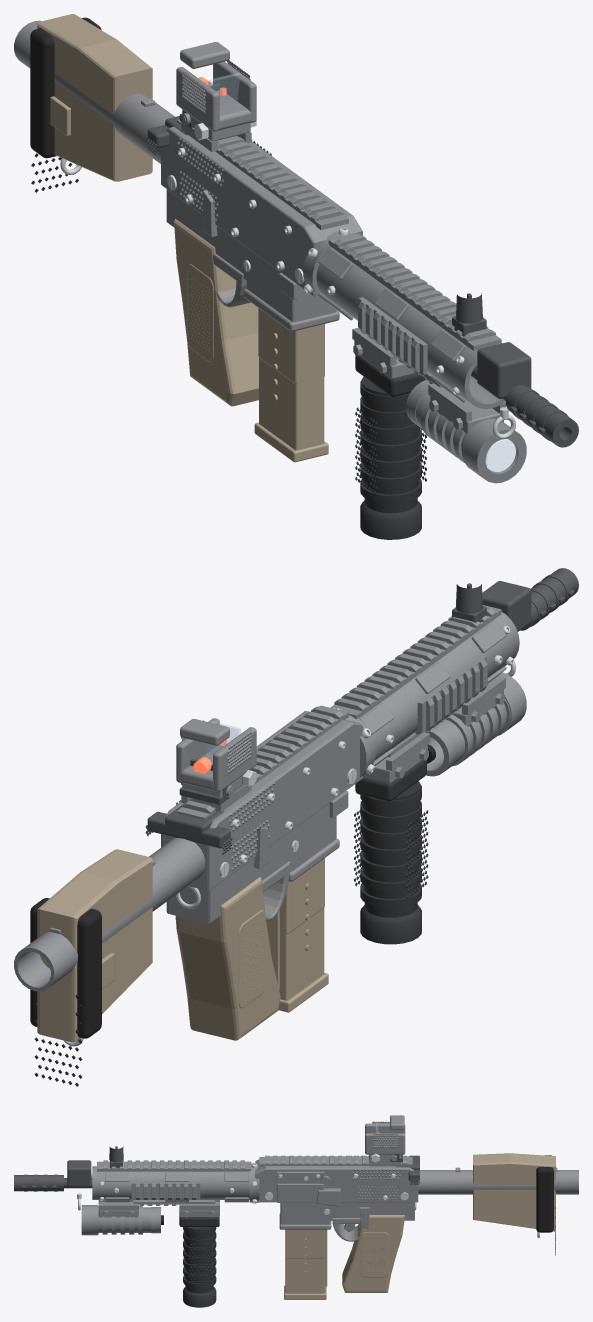
File: mpxc.glb
3 views of the same model, one above another, from view 1: azimuth 30°, elevation 25°; view 2: azimuth 150°, elevation 25°; view 3: azimuth 270°, elevation 25° (orthographic). The views are drawn at different scales.
Parts seen in each view (by area): view 1: carbine-smg-loadout, stock/polymerTan, magazine/polymerTan, stock/rubber, charge; view 2: carbine-smg-loadout, stock/polymerTan, magazine/polymerTan, stock/rubber, charge; view 3: carbine-smg-loadout, stock/polymerTan, magazine/polymerTan, stock/rubber, charge.
Boxes of the visible parts, x1=… form: carbine-smg-loadout: x1=14, y1=20, x2=578, y2=539; stock/polymerTan: x1=37, y1=14, x2=152, y2=181; magazine/polymerTan: x1=254, y1=308, x2=328, y2=462; stock/rubber: x1=30, y1=17, x2=101, y2=192; charge: x1=146, y1=116, x2=188, y2=154; carbine-smg-loadout: x1=14, y1=568, x2=578, y2=1040; stock/polymerTan: x1=37, y1=849, x2=152, y2=1042; magazine/polymerTan: x1=266, y1=858, x2=328, y2=1012; stock/rubber: x1=30, y1=898, x2=101, y2=1086; charge: x1=145, y1=805, x2=232, y2=854; carbine-smg-loadout: x1=14, y1=1115, x2=578, y2=1307; stock/polymerTan: x1=473, y1=1153, x2=555, y2=1231; magazine/polymerTan: x1=284, y1=1229, x2=327, y2=1299; stock/rubber: x1=536, y1=1155, x2=555, y2=1255; charge: x1=396, y1=1155, x2=419, y2=1184.
Bounding box in the file's own units: 0.0592 × 0.2475 × 0.7.
